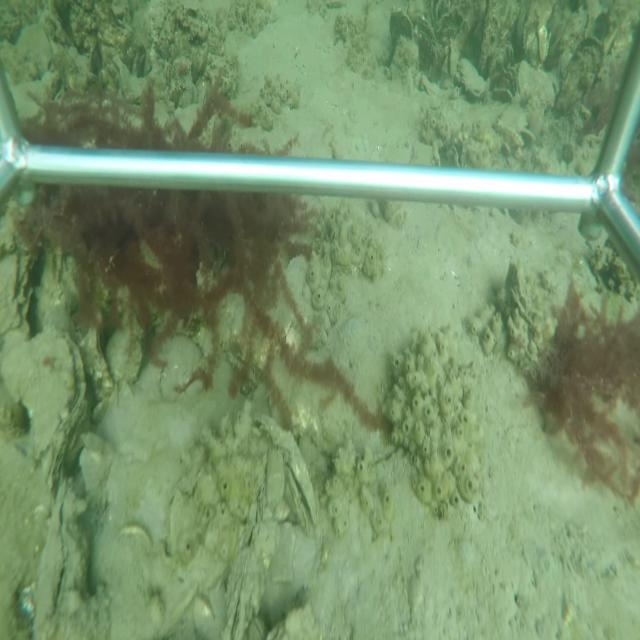Oyster-Closed: (4, 326, 89, 495), (33, 477, 79, 640), (223, 547, 267, 640), (513, 57, 555, 111), (455, 58, 487, 100)
Oyster-Indeterminate: (106, 321, 144, 386)
Oyster-Open: (283, 434, 319, 532)
